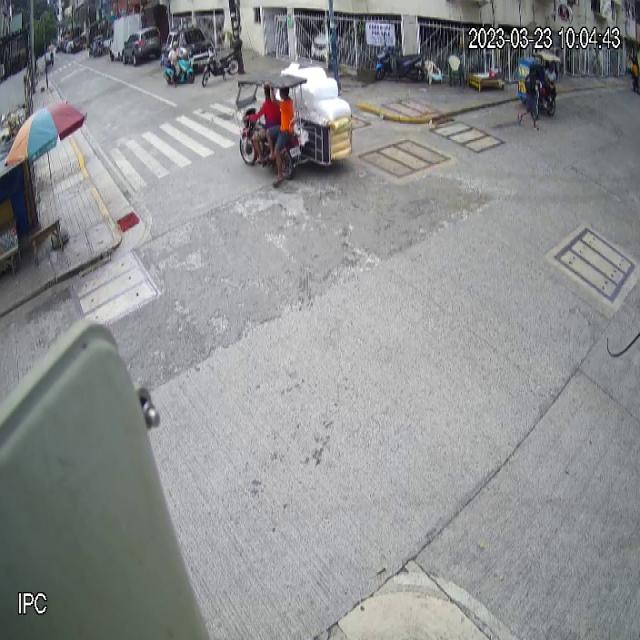Tricycle: (234, 72, 354, 182)
